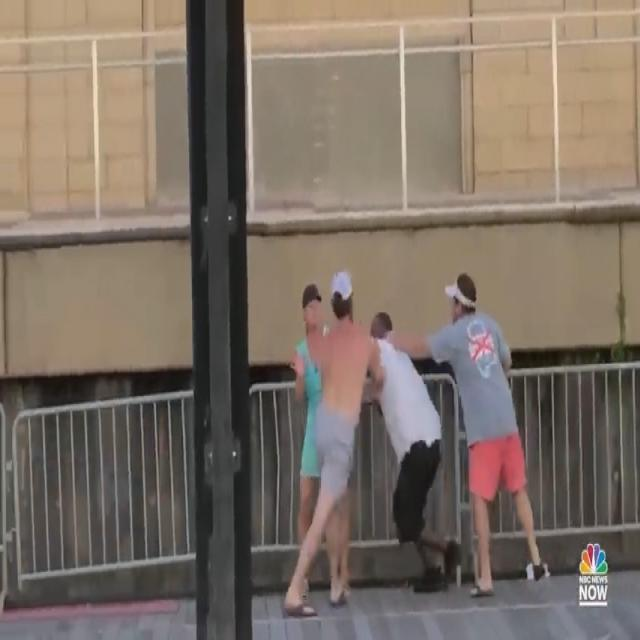fight: (288, 254, 464, 622)
